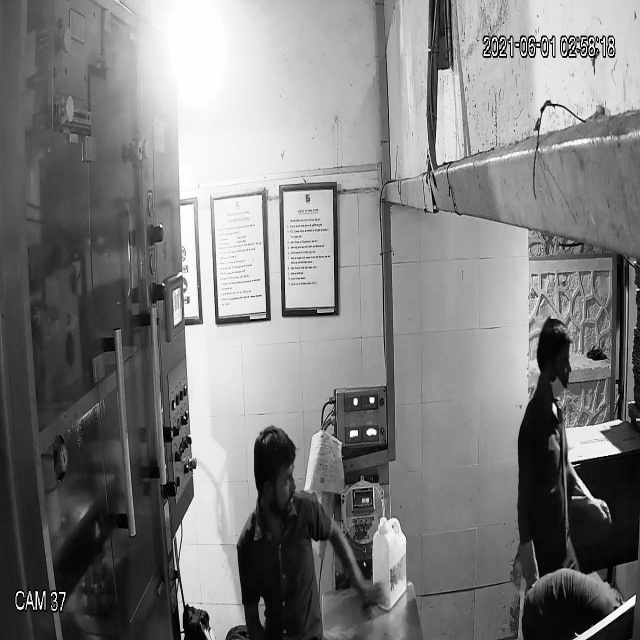Sin_gafas: (252, 464, 298, 501)
